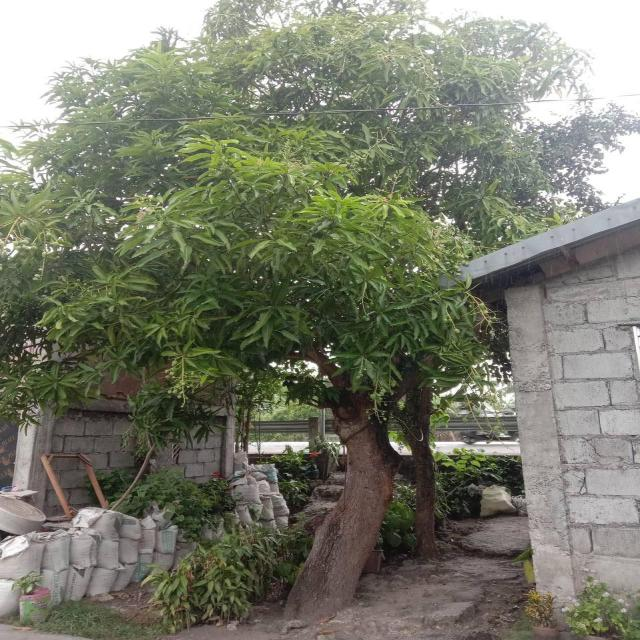Mango-Tree: (58, 28, 478, 596)
